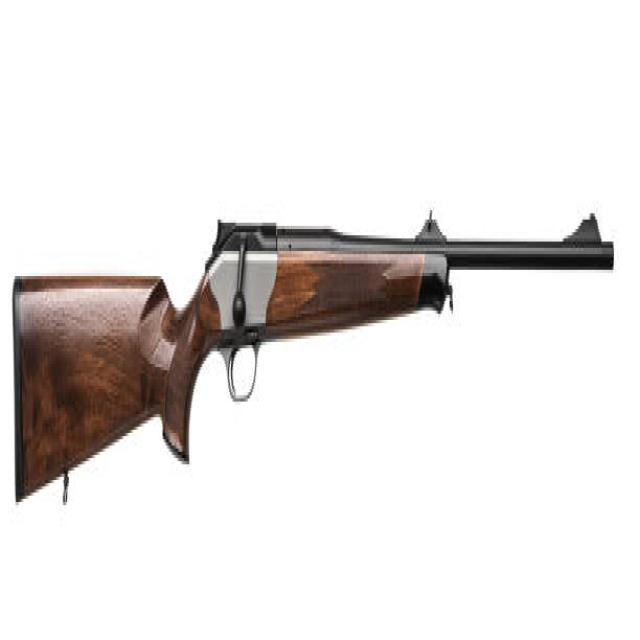rifle: (9, 189, 618, 543)
